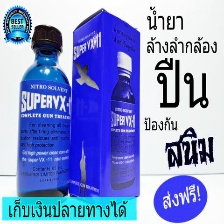book: (68, 6, 142, 210)
cleaning_solution: (12, 23, 72, 209)
